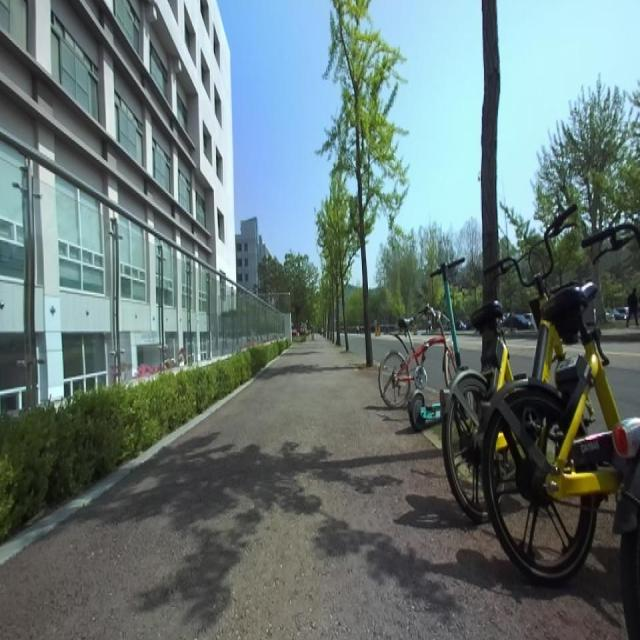sidewalk: (0, 338, 628, 639)
